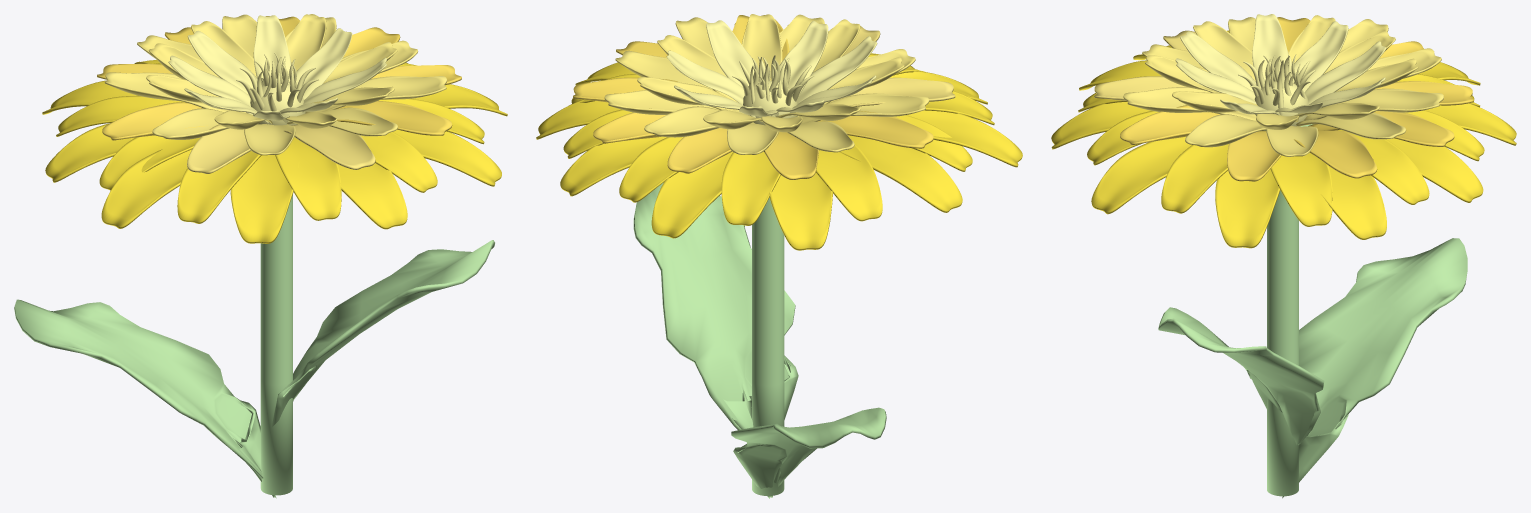
File: newDandileion2.fbx
3 renders of one model, left to right at view 1: azimuth 30°, elevation 25°; view 2: azimuth 150°, elevation 25°; view 3: azimuth 270°, elevation 25°, orthographic.
Visible parts, largest first — view 1: Cylinder; view 2: Cylinder; view 3: Cylinder.
Part boxes in pixels (x1,y1,x2,y2): Cylinder: [14, 14, 507, 498]; Cylinder: [536, 14, 1022, 498]; Cylinder: [1051, 14, 1516, 498].
Size of the model in its own units: 402 by 405 by 386.
